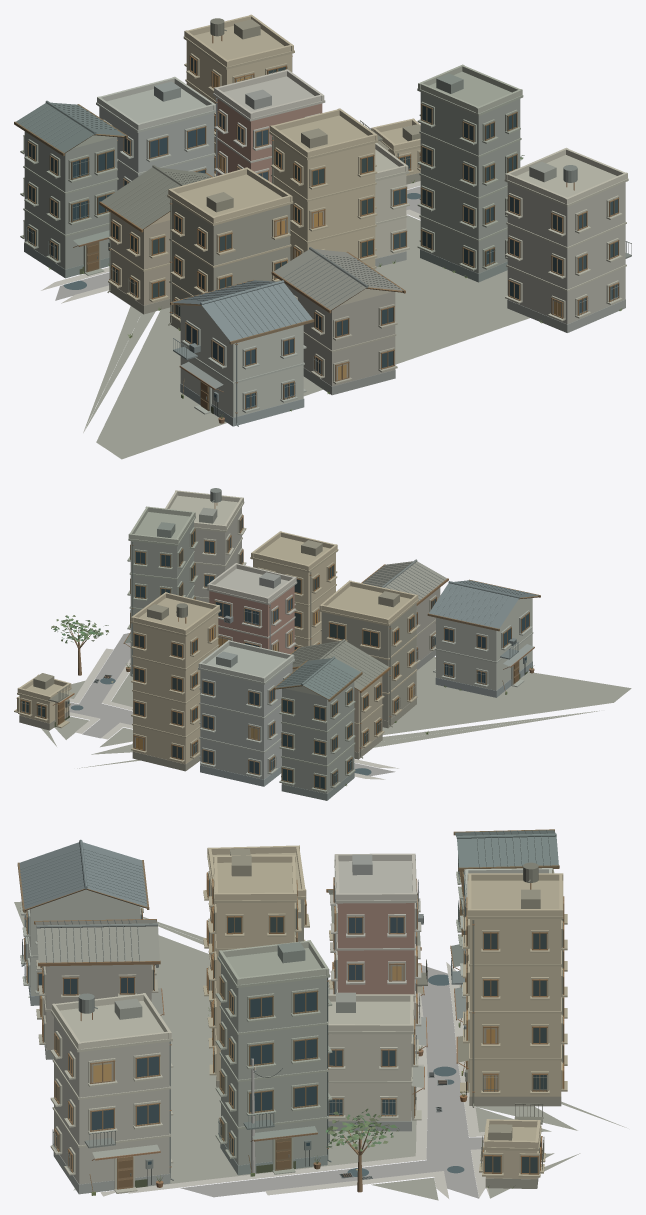
Rendered from street_2_3.glb.
The picture shows the model from 3 angles, top to bottom: view 1: azimuth 30°, elevation 25°; view 2: azimuth 150°, elevation 25°; view 3: azimuth 270°, elevation 25°; orthographic projection. The views are drawn at different scales.
Parts seen in each view (by area): view 1: concrete.041, trim.052, plaster.052, ground.061, wood.052, graybrick.052, roof_tile.036, glass.052, roof_metal.052, metal.052, brick.022, road.009 (+1 smaller); view 2: plaster.052, trim.052, concrete.041, ground.061, wood.052, roof_tile.036, graybrick.052, glass.052, roof_metal.052, metal.052, road.009, brick.022 (+2 smaller); view 3: plaster.052, trim.052, concrete.041, ground.061, wood.052, roof_metal.052, roof_tile.036, road.009, glass.052, metal.052, brick.022, paving.043 (+5 smaller).
Boxes of the visible parts, x1,y1,x2,y2 form: concrete.041: (24,92,625,386); trim.052: (20,26,628,414); plaster.052: (72,14,627,417); ground.061: (83,184,529,459); wood.052: (14,55,619,411); graybrick.052: (24,172,625,426); roof_tile.036: (16,100,368,341); glass.052: (29,57,617,408); roof_metal.052: (73,19,556,388); metal.052: (26,18,631,426); brick.022: (216,97,322,182); road.009: (55,186,420,300); plaster.052: (17,490,532,764); trim.052: (14,495,533,792); concrete.041: (130,507,440,793); ground.061: (41,657,631,768); wood.052: (16,515,540,790); roof_tile.036: (275,559,538,699); graybrick.052: (19,603,532,800); glass.052: (21,517,528,788); roof_metal.052: (33,507,533,702); metal.052: (20,488,526,785); road.009: (69,633,395,776); brick.022: (209,585,294,653); plaster.052: (27,845,563,1179); trim.052: (20,852,567,1193); concrete.041: (44,900,463,1184); ground.061: (14,901,626,1200); wood.052: (17,829,564,1192); roof_metal.052: (35,848,540,1158); roof_tile.036: (19,830,558,947); road.009: (180,965,483,1198); glass.052: (25,871,563,1173); metal.052: (21,855,547,1180); brick.022: (337,903,414,1019); paving.043: (100,962,489,1198).
Bounding box in the file's own units: 43.62 × 14.22 × 37.13.
